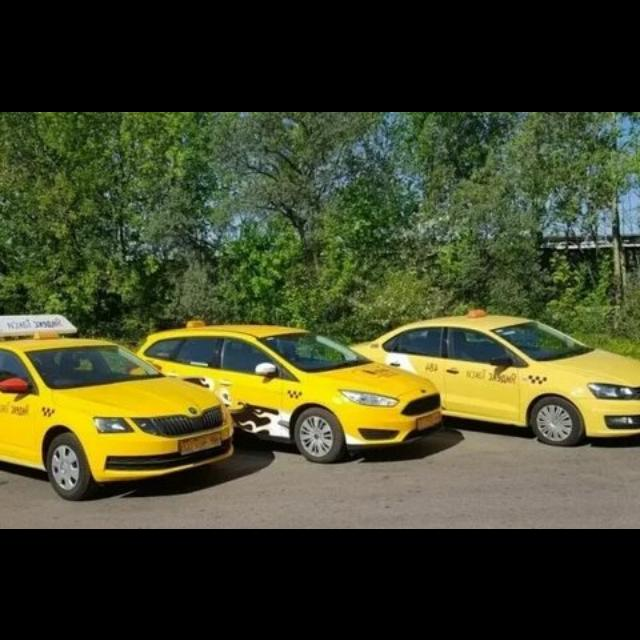taxi: (128, 318, 444, 463), (1, 312, 235, 500), (345, 307, 639, 445)
